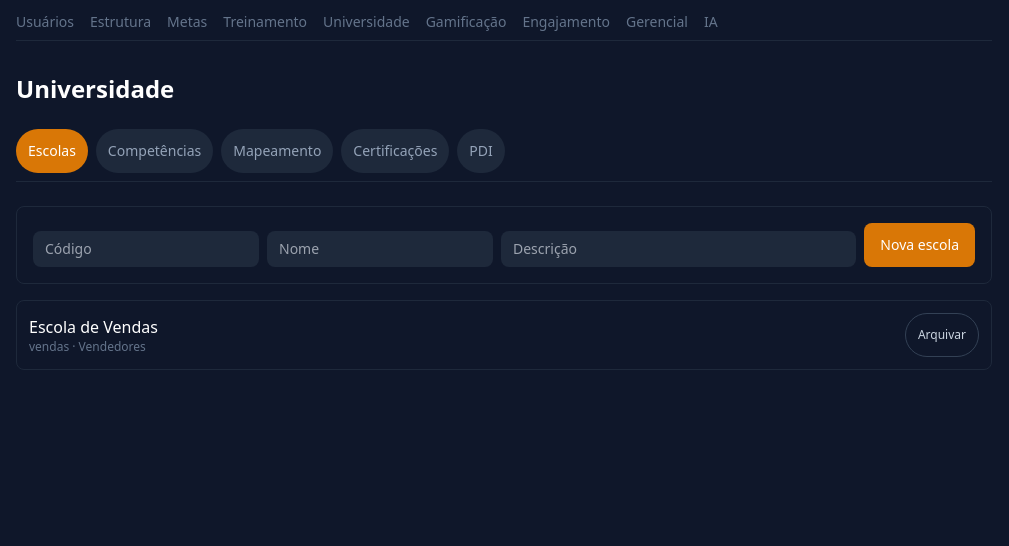
Test: AdminUniversidade › aba de Mapeamento associa uma aula real a uma competência
Click the button "Mapeamento" at x=277, y=151, box [221, 129, 333, 173]
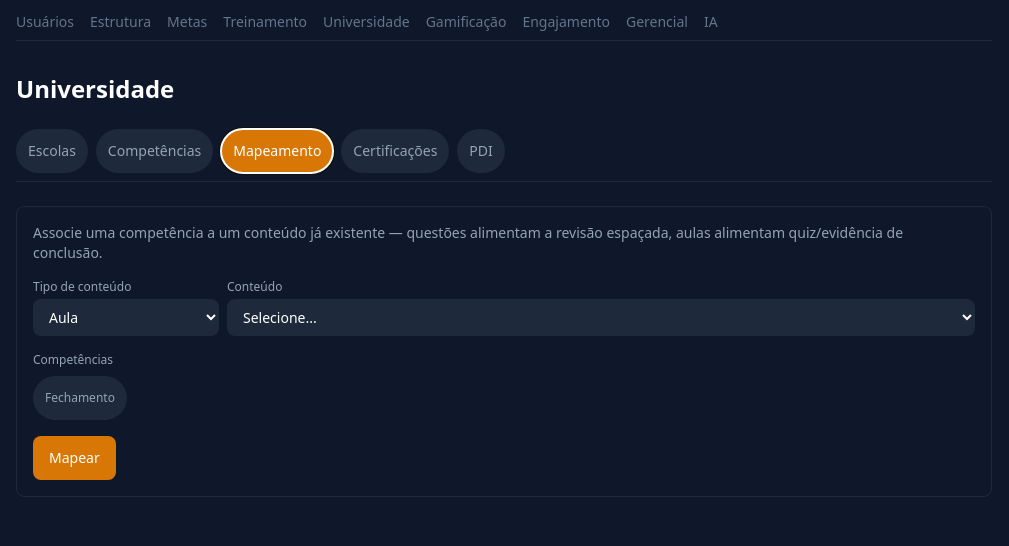
Select "Como abrir bem um atendimento — Fundamentos de Abertura (Publicado)" in the dropdown labelled "Conteúdo" at x=601, y=318, box [227, 299, 975, 336]
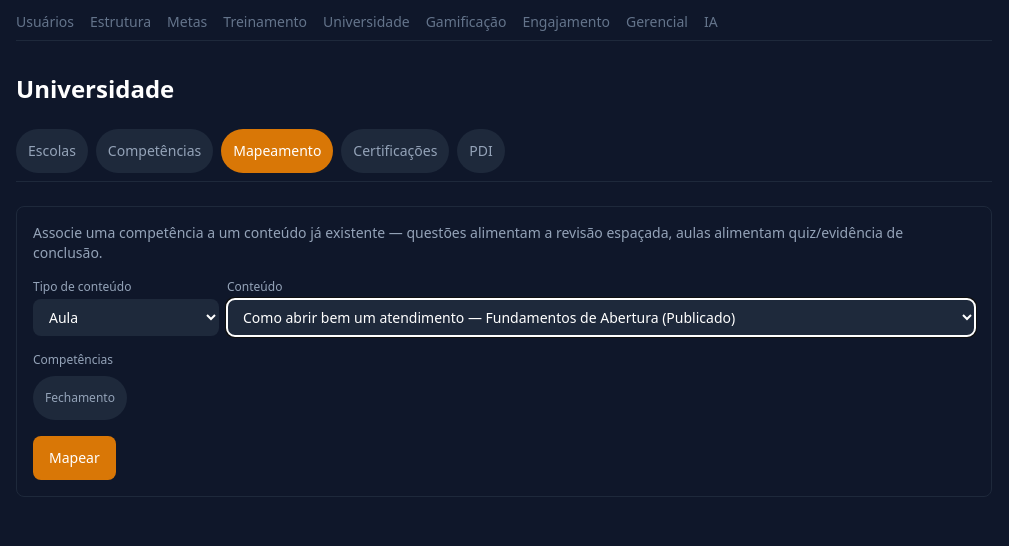
Click the button "Fechamento" at x=80, y=398, box [33, 376, 127, 420]
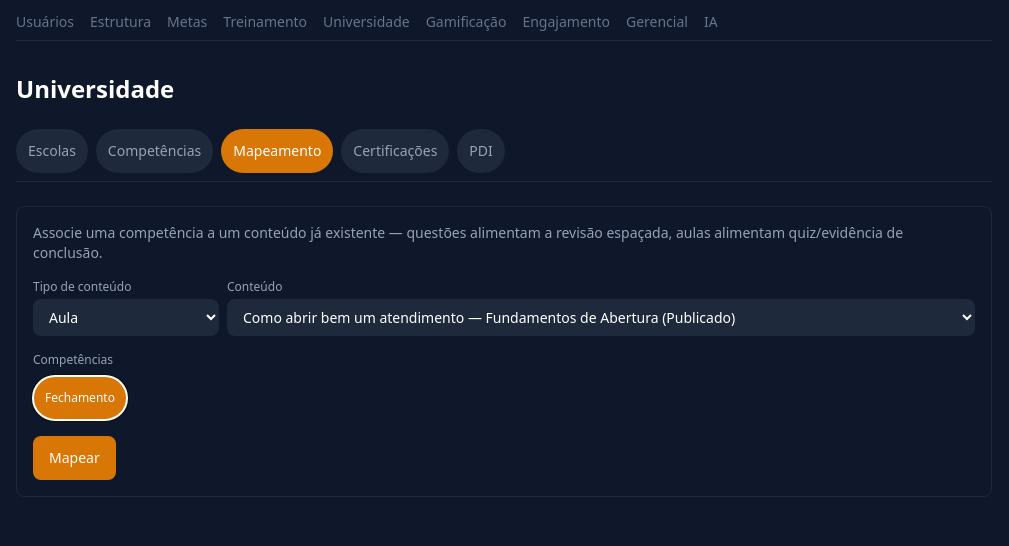
Click the button "Mapear" at x=74, y=458, box [33, 436, 116, 480]
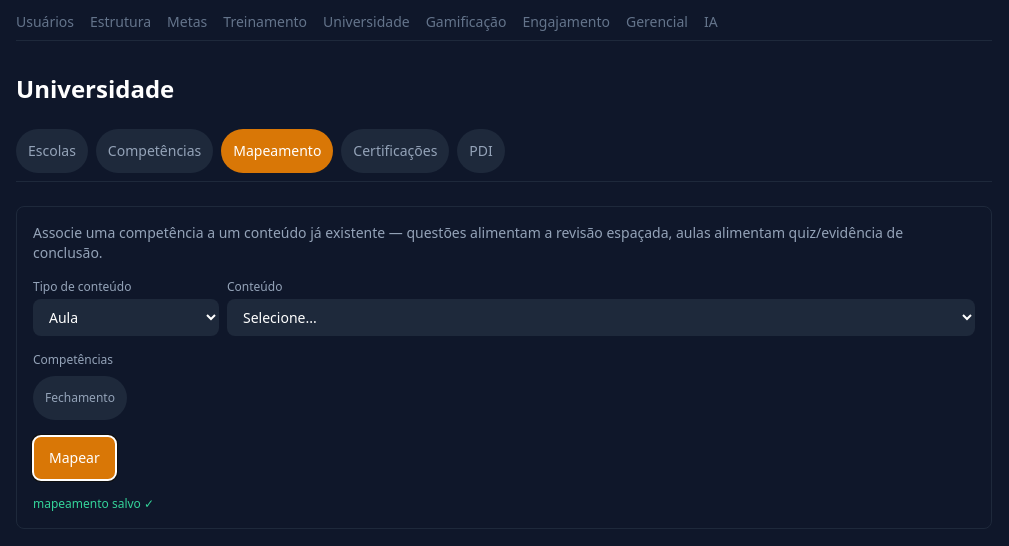
Expected: the text "mapeamento salvo ✓" is shown, [33, 495, 154, 512]
